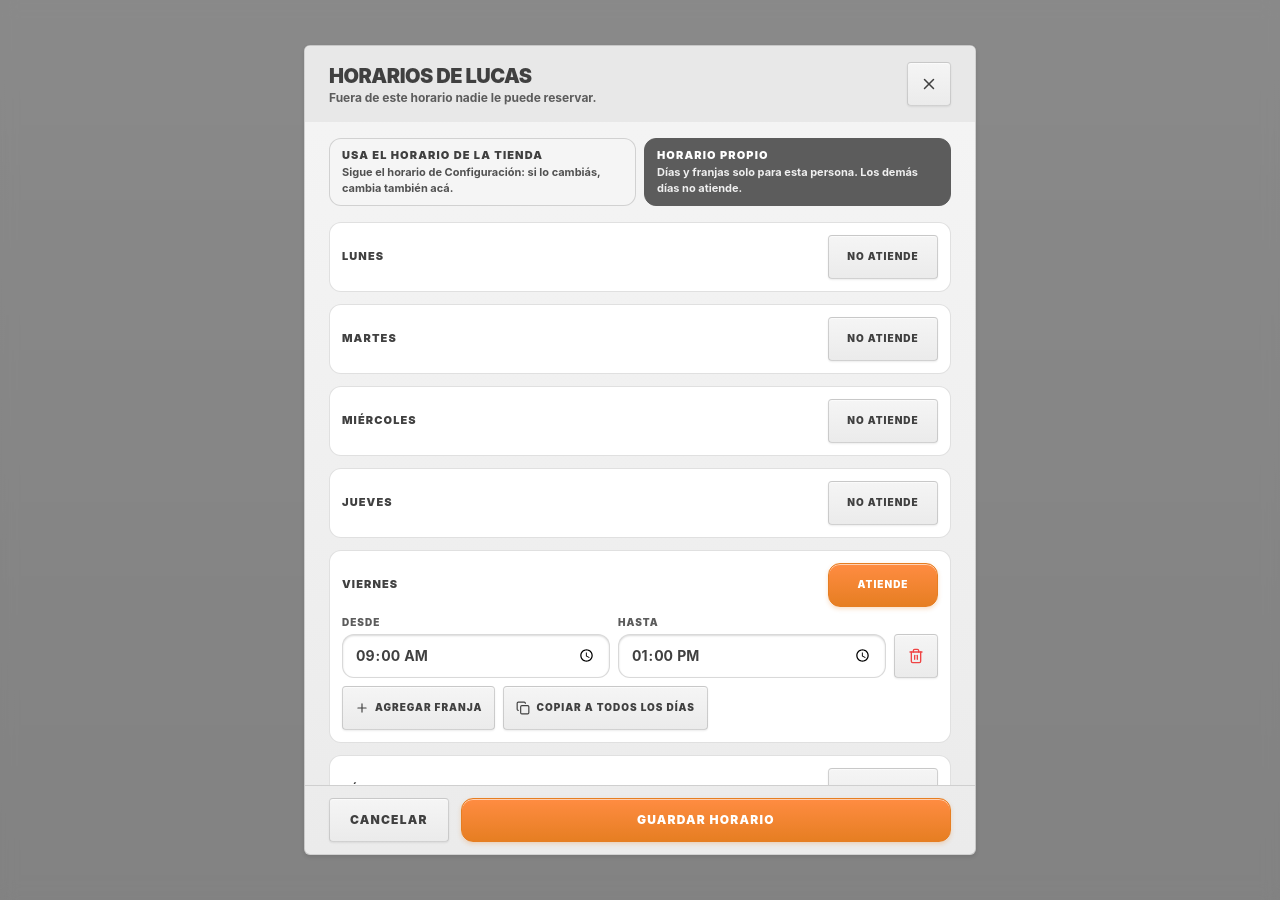
StaffScheduleModal › el error del backend se ve en el pie, junto al boton, nombrando el dia
Click the button "Guardar horario" at (706, 820), box [461, 798, 951, 842]
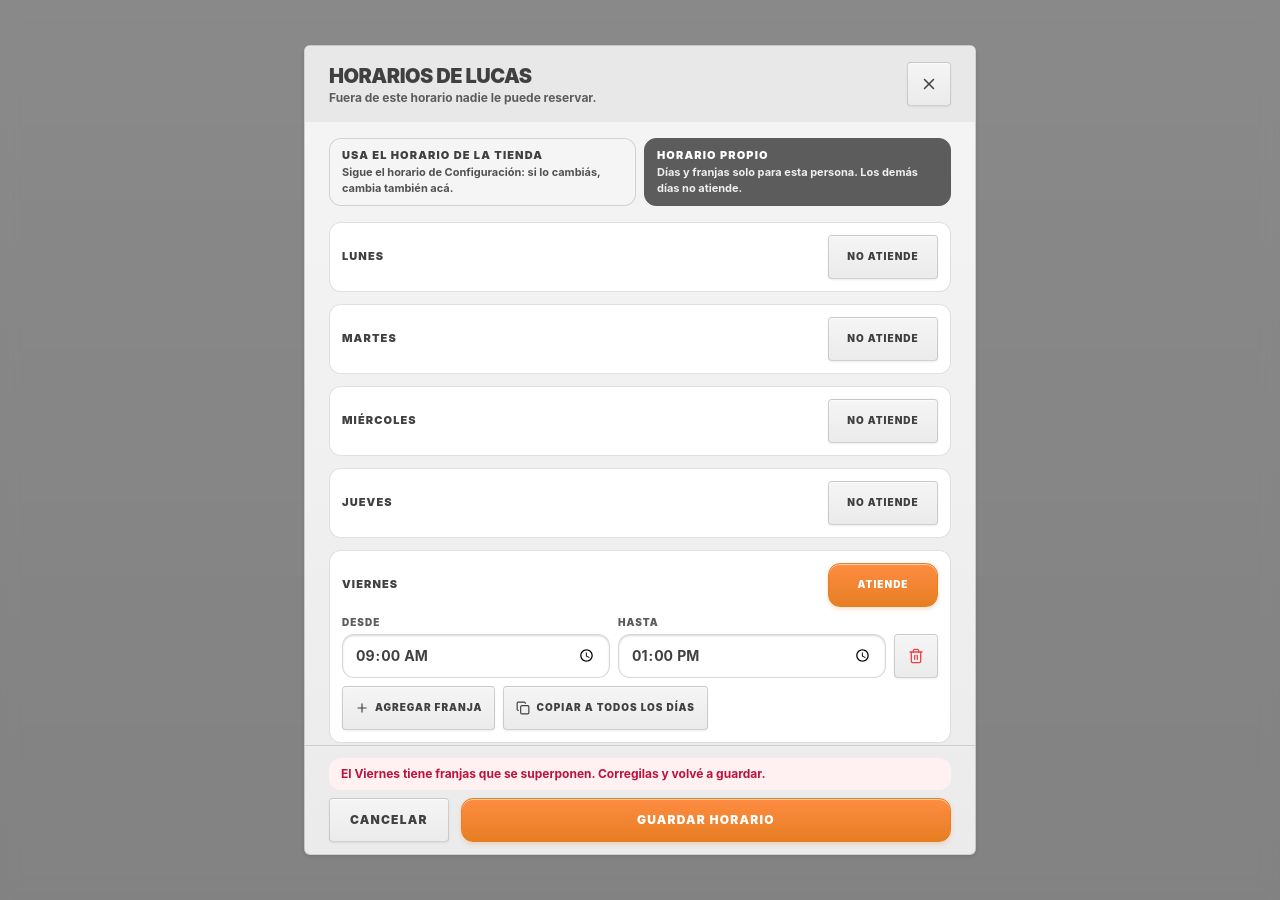
Expected: the message shows "El Viernes tiene franjas que se superponen.", [341, 766, 765, 781]
